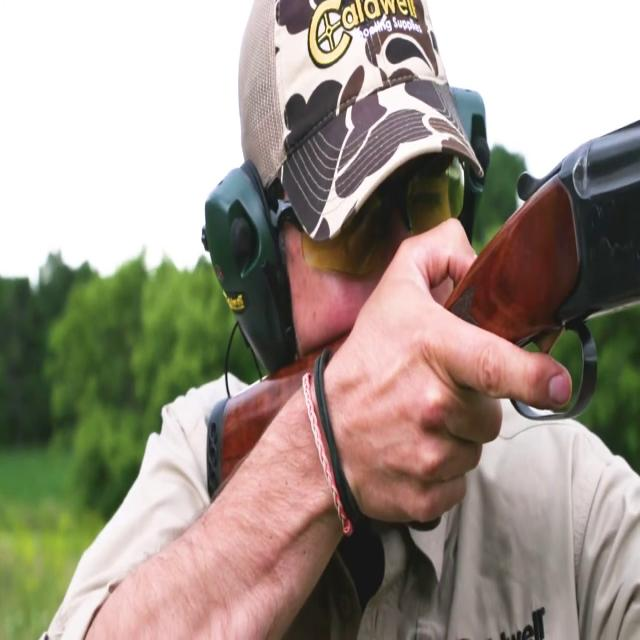earmuff: (196, 156, 298, 378)
glasses: (276, 157, 470, 280)
